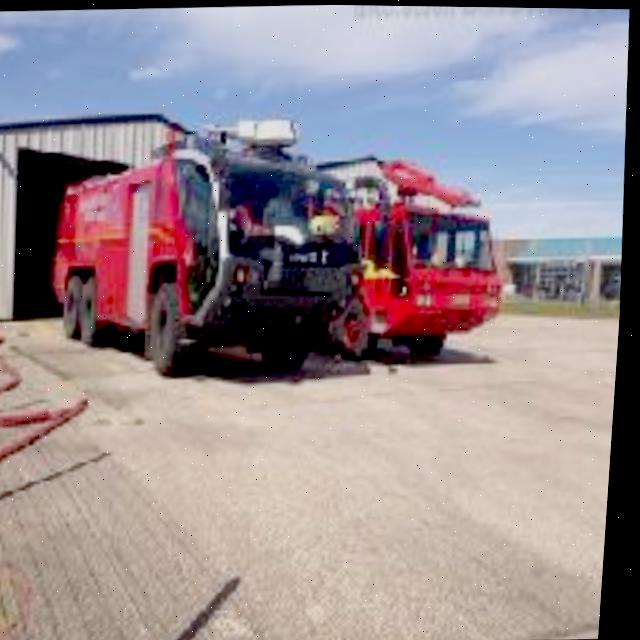emergency: (50, 125, 372, 367), (339, 142, 518, 363)
